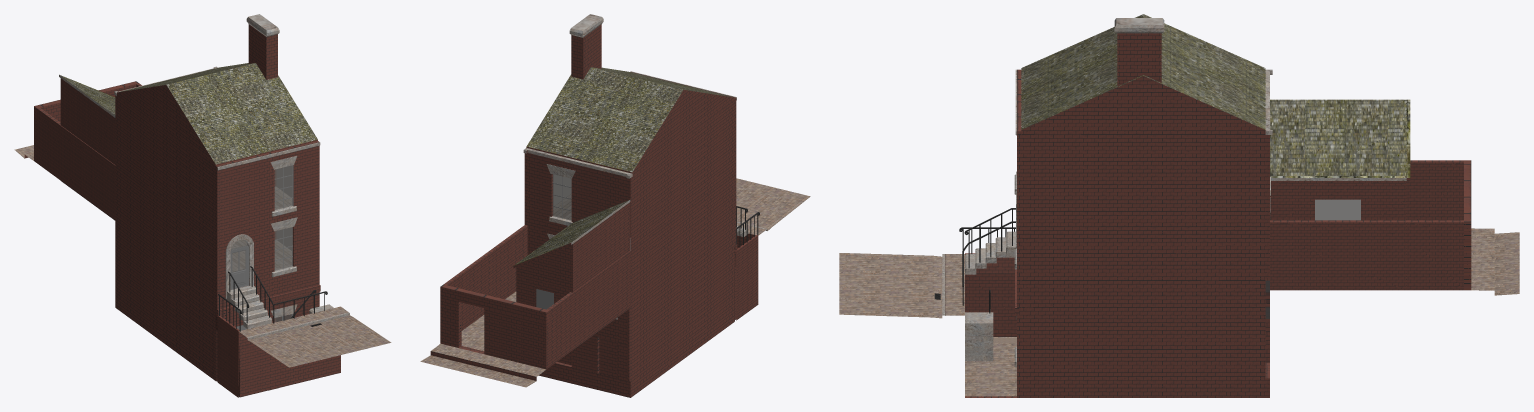
The model's file is TERRACEnubr.fbx.
3 renders of one model, left to right at view 1: azimuth 30°, elevation 25°; view 2: azimuth 150°, elevation 25°; view 3: azimuth 270°, elevation 25°, orthographic. The views are drawn at different scales.
Visible parts, largest first — view 1: arch.000; view 2: arch.000; view 3: arch.000.
Part boxes in pixels (x1=…): arch.000: x1=14, y1=14, x2=391, y2=397; arch.000: x1=420, y1=14, x2=810, y2=397; arch.000: x1=839, y1=14, x2=1519, y2=397.
Size of the model in its own units: 659 by 1853 by 3067.
